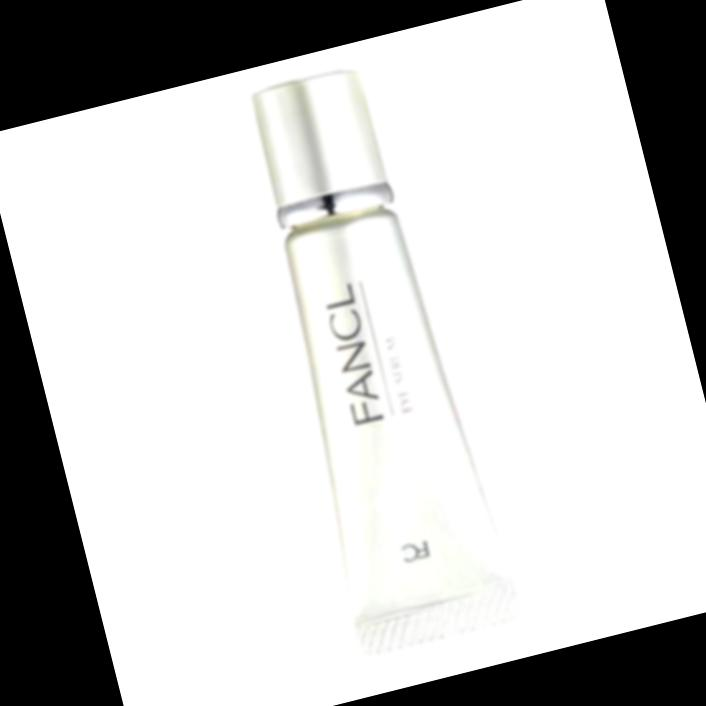cosmetic: (230, 57, 523, 659)
